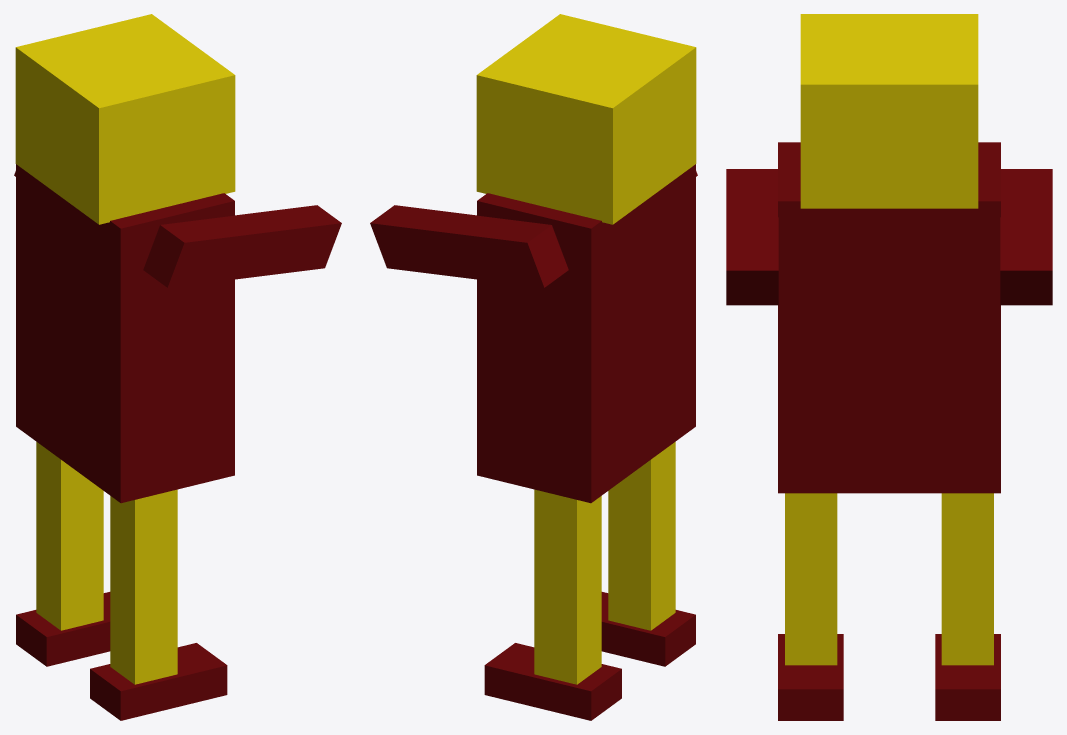
The model's file is Human.fbx.
3 views of the same model, side by side, from view 1: azimuth 30°, elevation 25°; view 2: azimuth 150°, elevation 25°; view 3: azimuth 270°, elevation 25° (orthographic). The views are drawn at different scales.
Visible parts, largest first — view 1: Cube.002; view 2: Cube.002; view 3: Cube.002.
Part boxes in pixels (x1,y1,x2,y2): Cube.002: (14, 14, 341, 720); Cube.002: (370, 14, 697, 720); Cube.002: (726, 14, 1052, 720).
Size of the model in its own units: 195 by 544 by 249.
